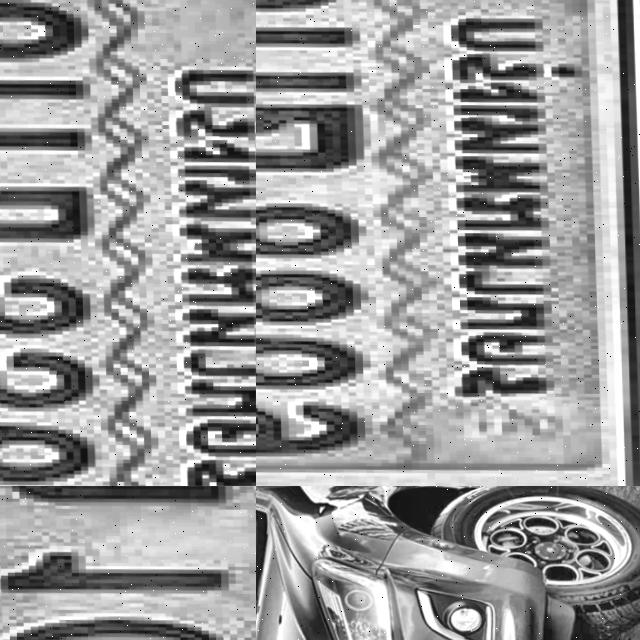license-plate: (256, 0, 640, 486), (0, 0, 256, 486), (0, 486, 256, 640)
